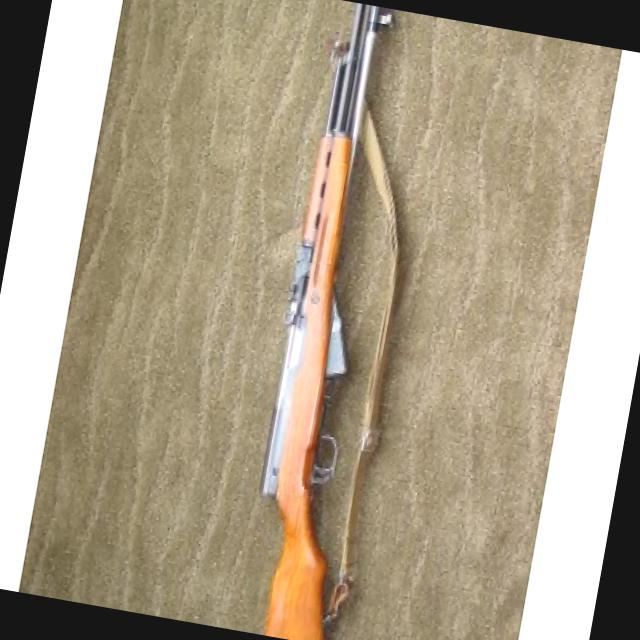long weapon: (196, 0, 461, 639)
